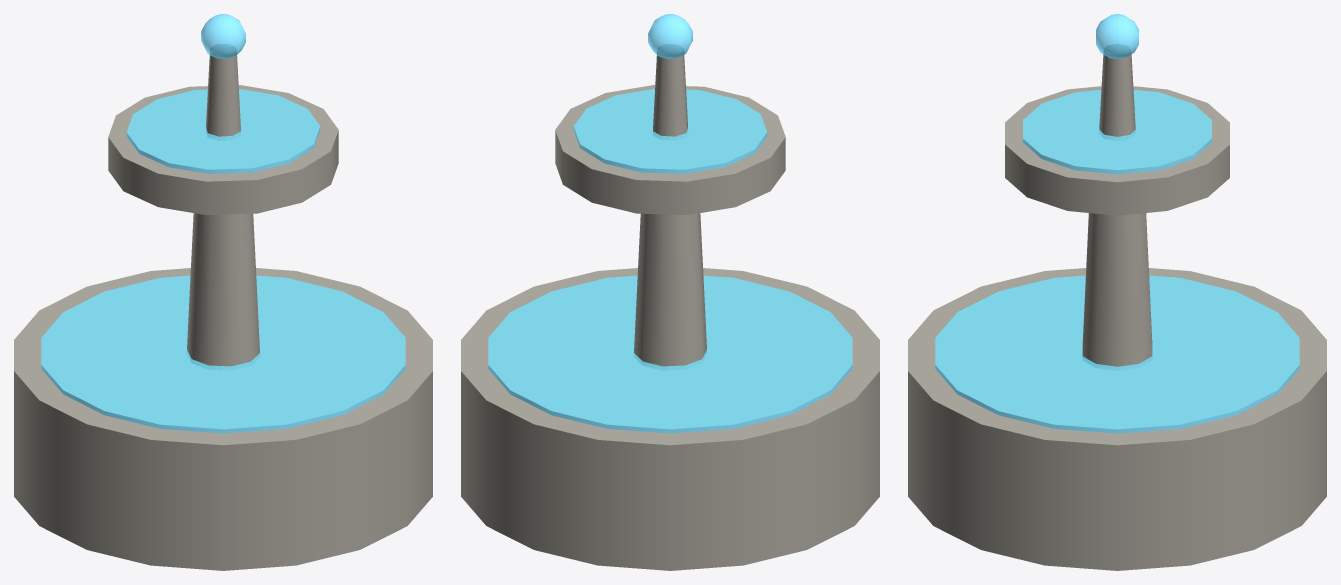
File: fountain_small.glb
3 views of the same model, side by side, from view 1: azimuth 30°, elevation 25°; view 2: azimuth 150°, elevation 25°; view 3: azimuth 270°, elevation 25° (orthographic).
Parts seen in each view (by area): view 1: fountain_small; view 2: fountain_small; view 3: fountain_small.
Part boxes in pixels (bbox=[...]): fountain_small: bbox=[14, 14, 432, 570]; fountain_small: bbox=[461, 14, 879, 570]; fountain_small: bbox=[908, 14, 1326, 570].
Bounding box in the file's own units: 0.92 × 1.11 × 0.906.
